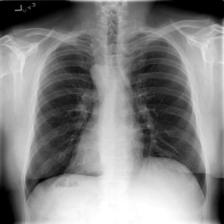normal: (20, 29, 208, 201)
